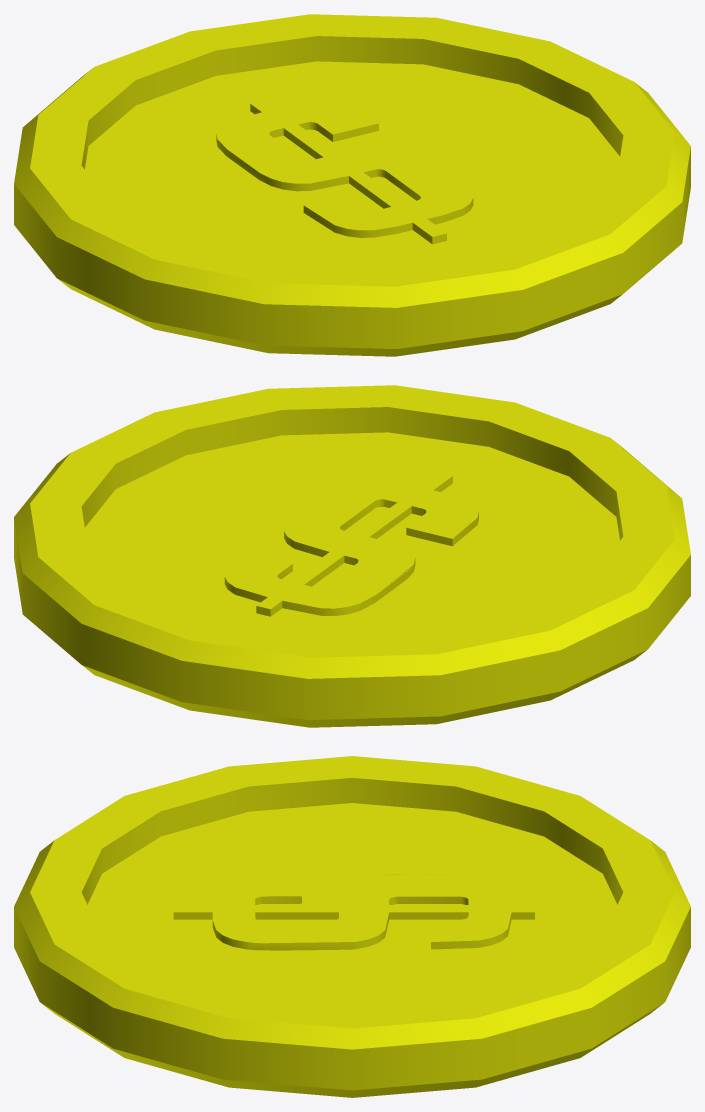
Rendered from coin.glb.
The picture shows the model from 3 angles, top to bottom: view 1: azimuth 30°, elevation 25°; view 2: azimuth 150°, elevation 25°; view 3: azimuth 270°, elevation 25°; orthographic projection.
Visible parts, largest first — view 1: Cylinder; view 2: Cylinder; view 3: Cylinder.
Boxes of the visible parts, x1,y1,x2,y2 form: Cylinder: (14, 14, 690, 356); Cylinder: (14, 385, 690, 727); Cylinder: (14, 756, 690, 1097).
Bounding box in the file's own units: 2 × 0.226 × 2.
